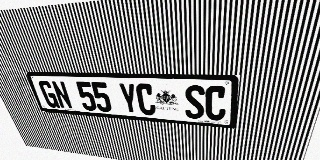5: (75, 81, 98, 111), (90, 82, 113, 112)
C: (205, 85, 227, 121), (135, 83, 156, 116)
G: (37, 80, 60, 108)
N: (50, 81, 73, 109)
S: (184, 85, 205, 119)
Y: (117, 83, 139, 114)
